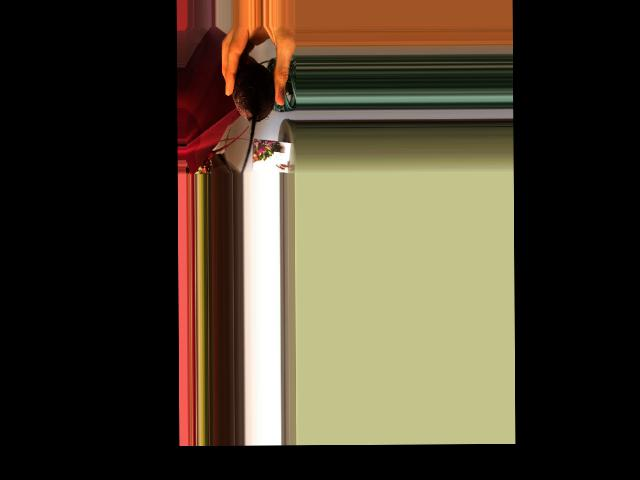beet: (232, 61, 275, 175)
